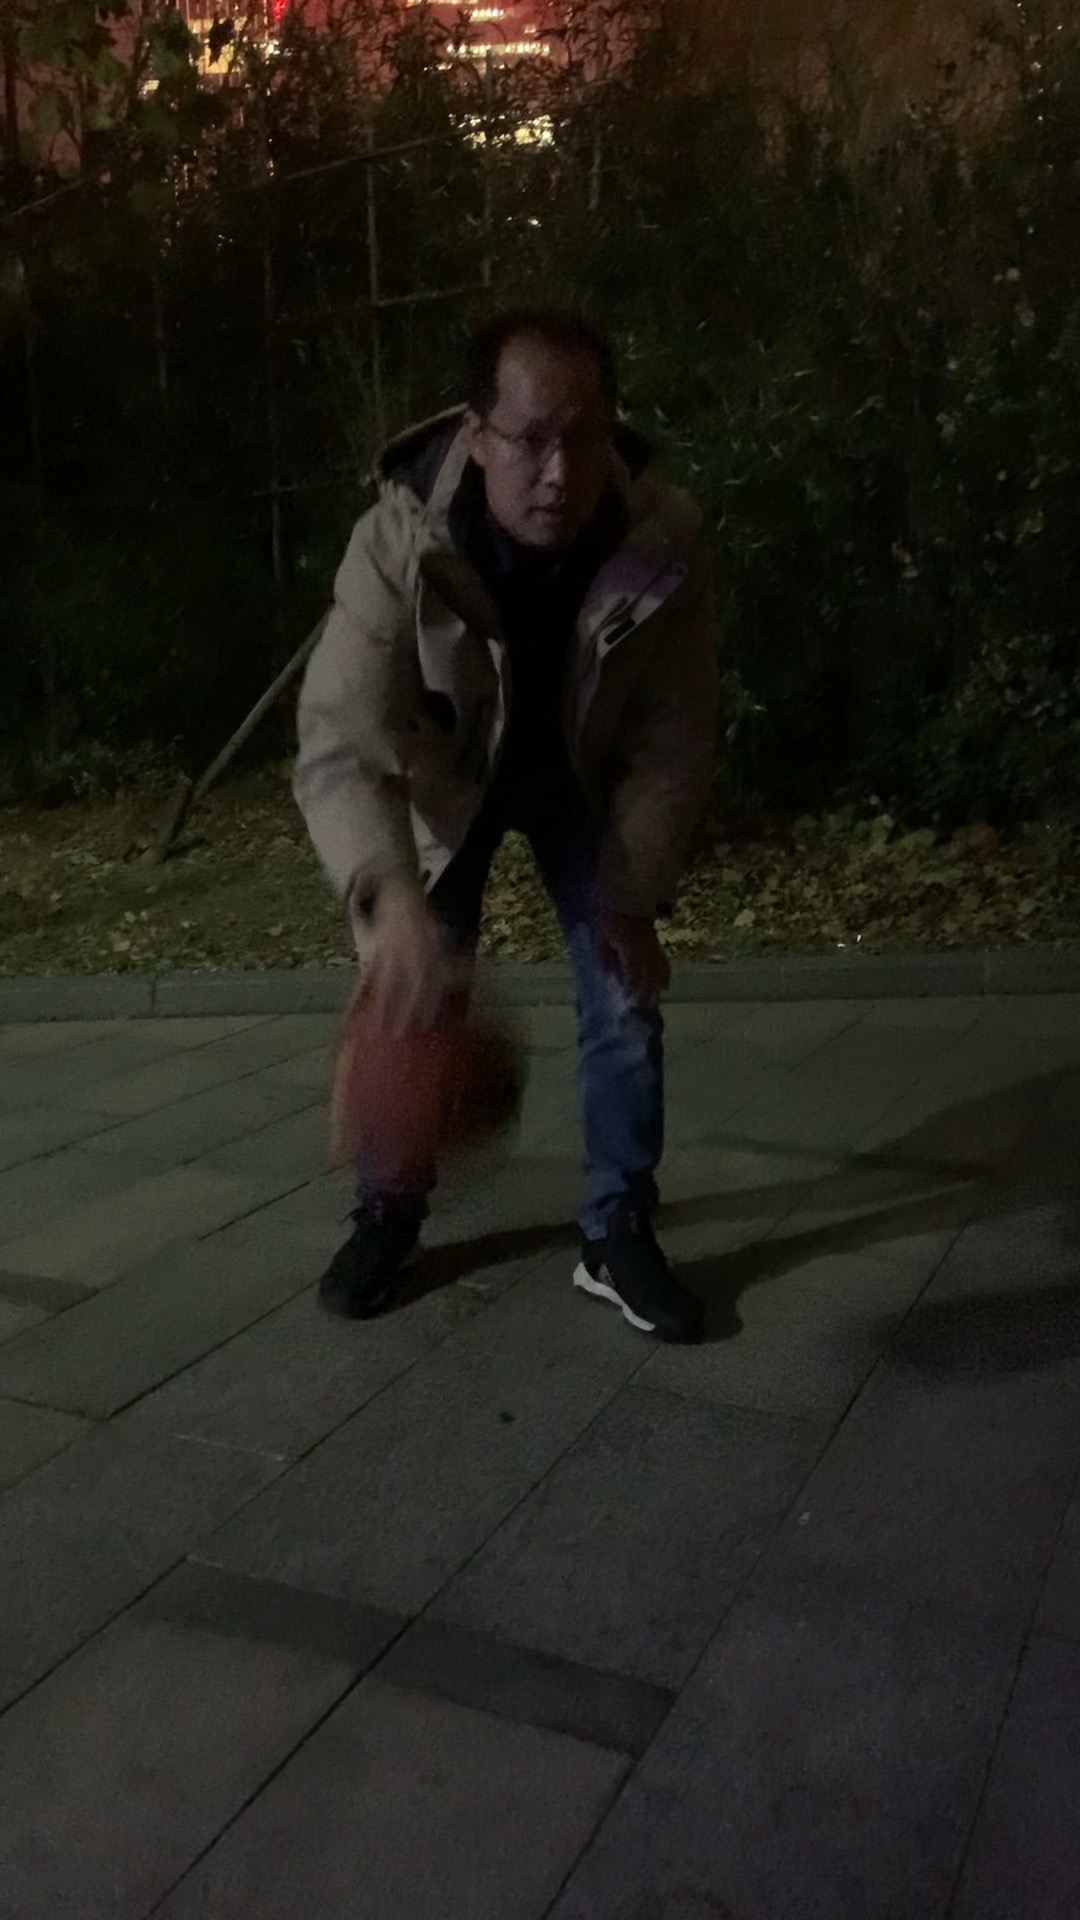ball: (330, 990, 530, 1176)
